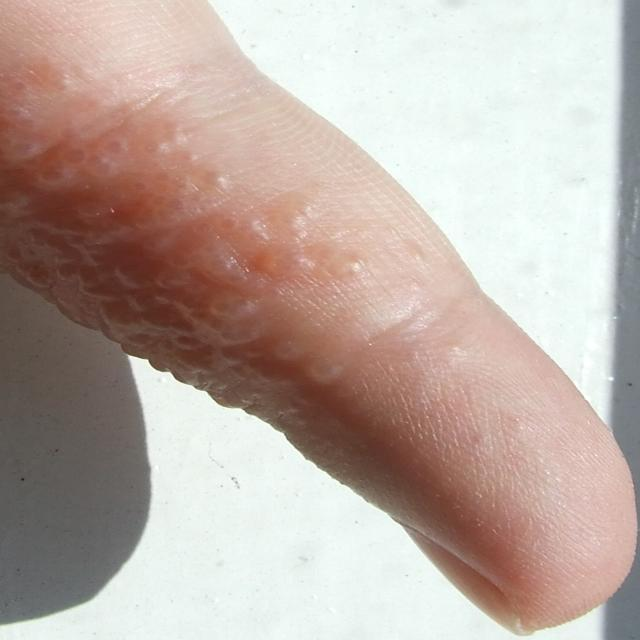Eczema: (0, 49, 362, 429)
